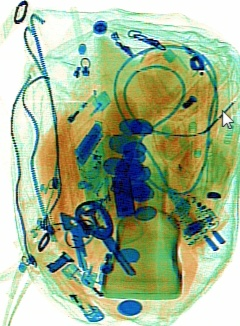lighter: (41, 86, 113, 157), (59, 261, 132, 321), (45, 254, 105, 322), (79, 224, 116, 291)
